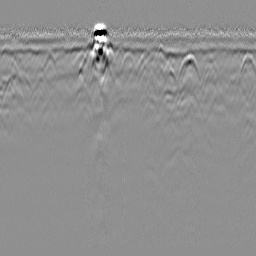cavity: (118, 46, 137, 76)
